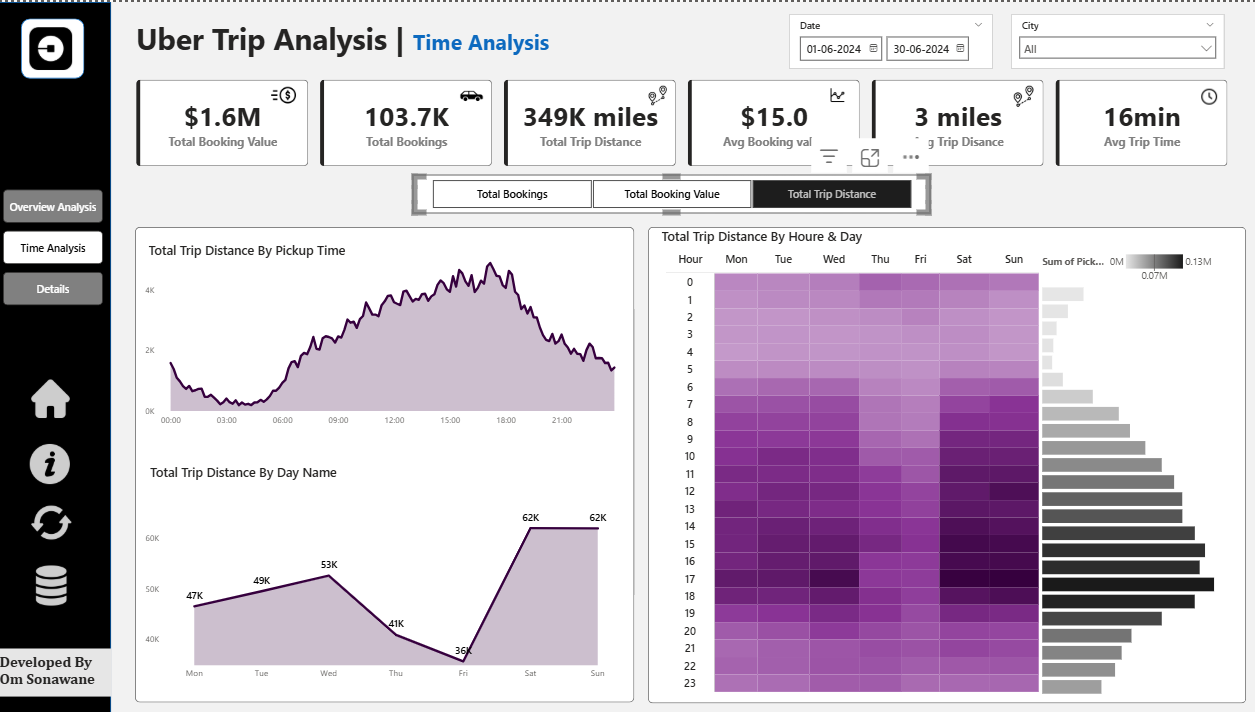

This screenshot's page, from the dashboard's own definition file:
{"tool":"powerbi","page":{"name":"Time Analysis","canvas":[1600,900],"ordinal":1},"visuals":[{"type":"shape","box":[8.7,0,142.1,900],"z":0},{"type":"textbox","box":[178,15.3,602,68],"z":1000},{"type":"cardVisual","fields":{"Data":["Trip Details.Total Booking Amount","Trip Details.Total Bookings","Trip Details.Total Trip Distance","Trip Details.Avg Booking Amount","Trip Details.Avg Trip Disance","Trip Details.Avg Trip Time"]},"box":[178,92.7,1391.3,119.3],"z":2000},{"type":"image","box":[325.7,96.2,87.4,41.5],"z":3000},{"type":"image","box":[581.4,98.4,50.3,39.3],"z":4000},{"type":"image","box":[815.3,100.5,52.5,35],"z":5000},{"type":"image","box":[1272.1,100.5,63.4,37.2],"z":6000},{"type":"image","box":[1508.2,104.9,56.8,30.6],"z":7000},{"type":"image","box":[1033.9,102.7,69.9,30.6],"z":8000},{"type":"shape","box":[181.7,283.9,630,600],"z":9000},{"type":"slicer","fields":{"Values":["Dynamic Measure .Dynamic Measure "]},"box":[532.5,218.1,653.1,48.8],"z":10000},{"type":"slicer","fields":{"Values":["Calendar Table.Date"]},"box":[1006.7,15.3,257.3,69.3],"z":11000},{"type":"slicer","fields":{"Values":["Location Table.City"]},"box":[1286.7,15.3,269.3,69.3],"z":12000},{"type":"areaChart","fields":{"Y":["Trip Details.Total Trip Distance Measure"],"Category":["Trip Details.Pickup Hour (HH MM SS) (bins)"]},"box":[188.3,310,615,233.3],"z":13000},{"type":"cardVisual","fields":{"Data":["Trip Details.Title For By Pickup Time"]},"box":[181.7,275.5,315.5,53.9],"z":14000},{"type":"areaChart","fields":{"Y":["Trip Details.Total Trip Distance Measure"],"Category":["Calendar Table.Day Name"]},"box":[188.3,630,615,233.3],"z":15000},{"type":"cardVisual","fields":{"Data":["Trip Details.Title For By Day Name"]},"box":[183.7,557.1,313.5,53.9],"z":16000},{"type":"shape","box":[828.6,283.5,754.7,601],"z":17000},{"type":"pivotTable","fields":{"Values":["Trip Details.Total Trip Distance Measure"],"Rows":["Trip Details.Pickup Hour"],"Columns":["Calendar Table.Day Name"]},"box":[846,308,524,572],"z":18000},{"type":"barChart","fields":{"Y":["Trip Details.Total Trip Distance Measure"],"Category":["Trip Details.Pickup Hour"]},"box":[1321.8,311,247.6,589],"z":19000},{"type":"cardVisual","fields":{"Data":["Trip Details.Title For By Houre & Day"]},"box":[828.5,260,315.4,53.8],"z":20000},{"type":"shape","box":[37.1,20,79.9,75.9],"z":21000},{"type":"image","box":[40.2,26.2,70.8,64.6],"z":22000},{"type":"pageNavigator","box":[15.5,236.4,126.4,146.4],"z":23000},{"type":"image","box":[45.9,465.6,59,69.9],"z":24000},{"type":"image","box":[45.9,699.5,61.2,72.1],"z":25000},{"type":"image","box":[43.7,546.4,61.2,72.1],"z":26000},{"type":"image","box":[45.9,620.8,61.2,72.1],"z":27000},{"type":"textbox","box":[5.7,815.8,145.7,60.6],"z":28001}]}

Visuals, with their boxes on the page's 1600x900 design canvas (x1, y1, x2, y2). These are canvas units, not pixel positions in the 1255x712 screenshot, which may show the page scaled, cropped or inside an application window:
shape: l=9, t=0, r=151, b=900
textbox: l=178, t=15, r=780, b=83
cardVisual - Trip Details.Total Booking Amount x Trip Details.Total Bookings: l=178, t=93, r=1569, b=212
image: l=326, t=96, r=413, b=138
image: l=581, t=98, r=632, b=138
image: l=815, t=100, r=868, b=136
image: l=1272, t=100, r=1336, b=138
image: l=1508, t=105, r=1565, b=136
image: l=1034, t=103, r=1104, b=133
shape: l=182, t=284, r=812, b=884
slicer - Dynamic Measure .Dynamic Measure : l=532, t=218, r=1186, b=267
slicer - Calendar Table.Date: l=1007, t=15, r=1264, b=85
slicer - Location Table.City: l=1287, t=15, r=1556, b=85
areaChart - Trip Details.Total Trip Distance Measure x Trip Details.Pickup Hour (HH MM SS) (bins): l=188, t=310, r=803, b=543
cardVisual - Trip Details.Title For By Pickup Time: l=182, t=276, r=497, b=329
areaChart - Trip Details.Total Trip Distance Measure x Calendar Table.Day Name: l=188, t=630, r=803, b=863
cardVisual - Trip Details.Title For By Day Name: l=184, t=557, r=497, b=611
shape: l=829, t=284, r=1583, b=884
pivotTable - Trip Details.Total Trip Distance Measure x Trip Details.Pickup Hour: l=846, t=308, r=1370, b=880
barChart - Trip Details.Total Trip Distance Measure x Trip Details.Pickup Hour: l=1322, t=311, r=1569, b=900
cardVisual - Trip Details.Title For By Houre & Day: l=828, t=260, r=1144, b=314
shape: l=37, t=20, r=117, b=96
image: l=40, t=26, r=111, b=91
pageNavigator: l=16, t=236, r=142, b=383
image: l=46, t=466, r=105, b=536
image: l=46, t=700, r=107, b=772
image: l=44, t=546, r=105, b=618
image: l=46, t=621, r=107, b=693
textbox: l=6, t=816, r=151, b=876
